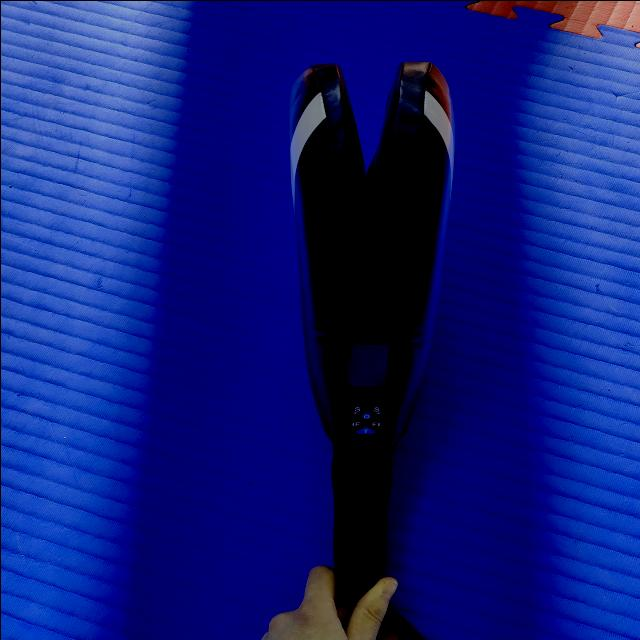paddle: (280, 56, 462, 598)
